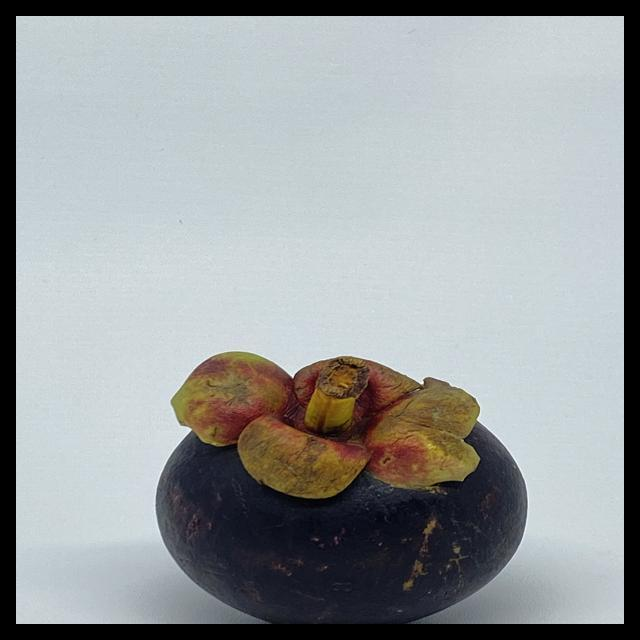mangosteen: (124, 331, 542, 624)
